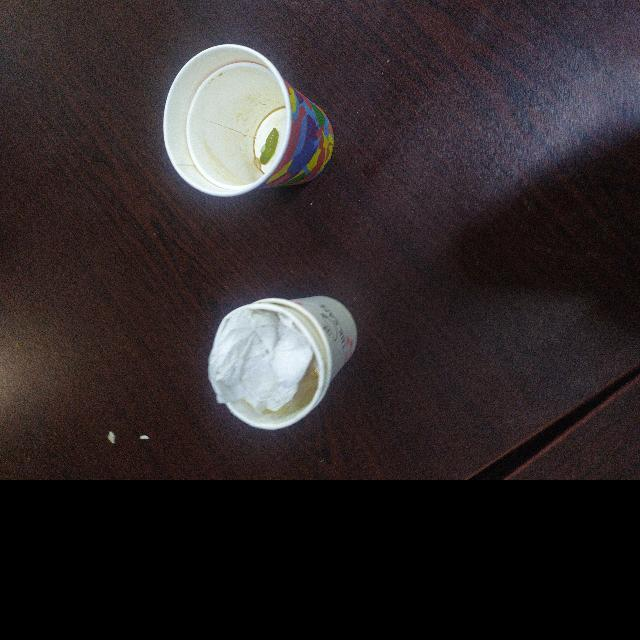kitchen paper: (204, 304, 316, 418)
